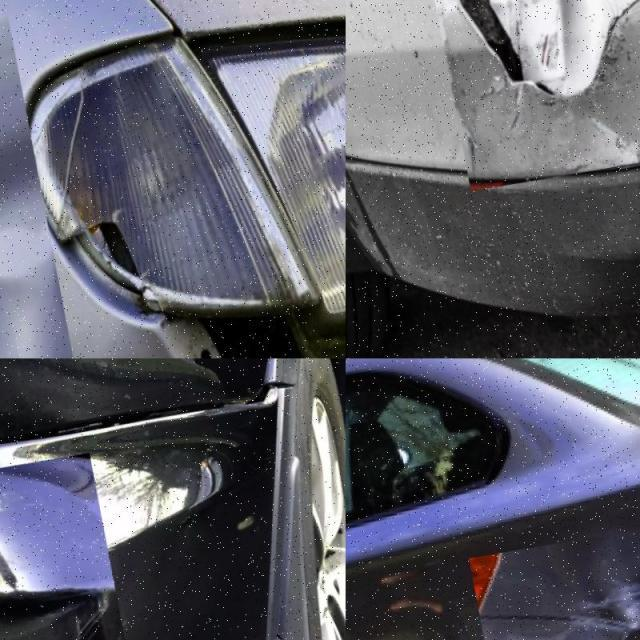car damage: (437, 36, 488, 179), (51, 73, 93, 237)
